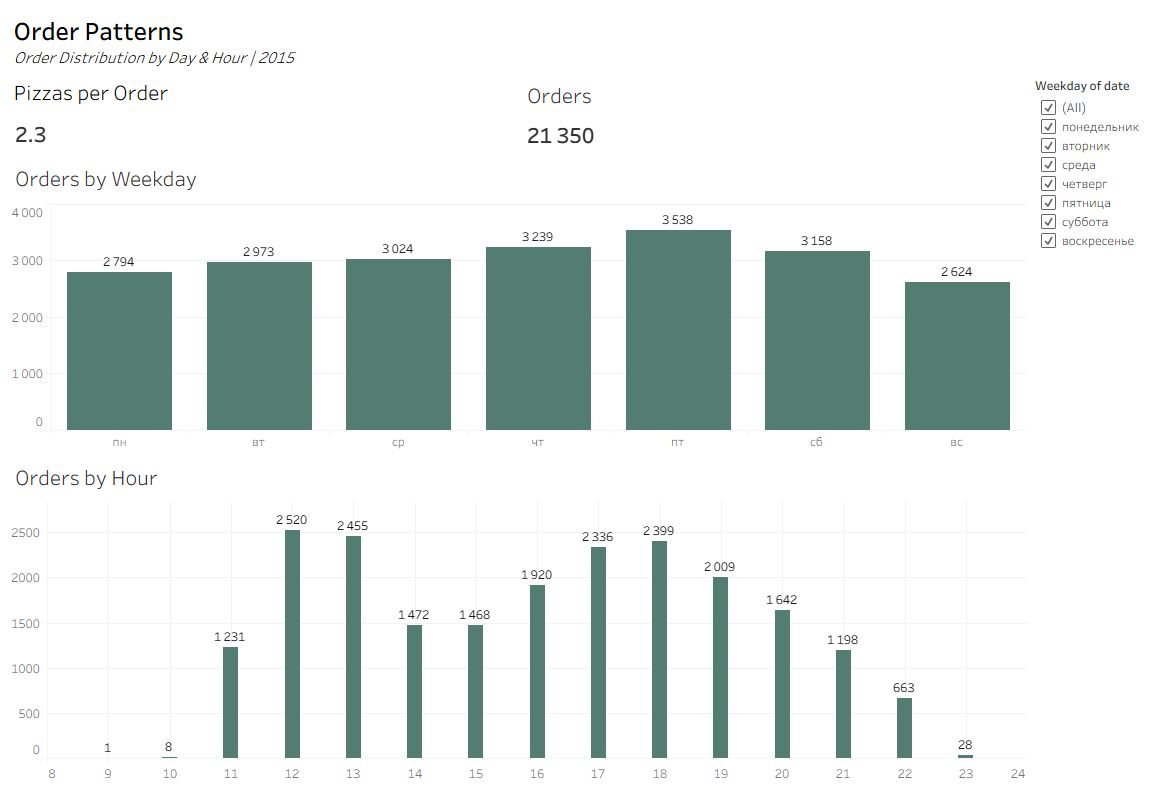

This screenshot's page, from the dashboard's own definition file:
{"tool":"tableau","page":{"name":"Order Patterns","canvas":[1200,800],"ordinal":0},"visuals":[{"type":"text","box":[8,8,1184,65]},{"type":"text","box":[8,73,512,38.1]},{"type":"worksheet","title":"Orders","mark":"Automatic","box":[520,73,512,83]},{"type":"filter","title":"Orders by Weekday","param":"[federated.0ryhwb20du5pnl1avtzbi1fca3mc].[wd:date:ok]","box":[1032,73,160,184]},{"type":"worksheet","title":"Pizzas per Order","mark":"Automatic","box":[8,111.1,512,44.9]},{"type":"worksheet","title":"Orders by Weekday","mark":"Bar","rows":["order_id"],"cols":["date"],"box":[8,156,1024,298.5]},{"type":"worksheet","title":"Orders by Hour","mark":"Bar","rows":["order_id"],"cols":["Calculation_0617716995895296"],"box":[8,454.5,1024,337.5]}]}

Visuals, with their boxes on the page's 1200x800 design canvas (x1, y1, x2, y2). These are canvas units, not pixel positions in the 1158x806 screenshot, which may show the page scaled, cropped or inside an application window:
text: crop(8, 8, 1192, 73)
text: crop(8, 73, 520, 111)
"Orders" worksheet: crop(520, 73, 1032, 156)
"Orders by Weekday" filter: crop(1032, 73, 1192, 257)
"Pizzas per Order" worksheet: crop(8, 111, 520, 156)
"Orders by Weekday" worksheet (Bar marks): crop(8, 156, 1032, 454)
"Orders by Hour" worksheet (Bar marks): crop(8, 454, 1032, 792)
